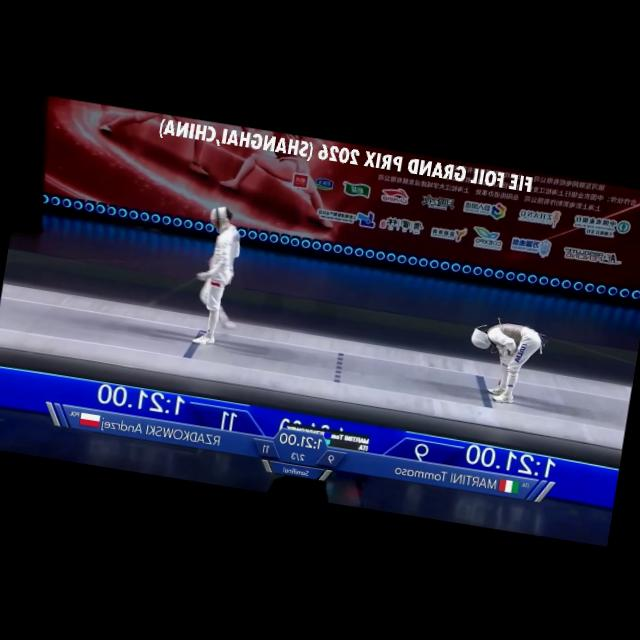blade: (142, 263, 206, 319)
